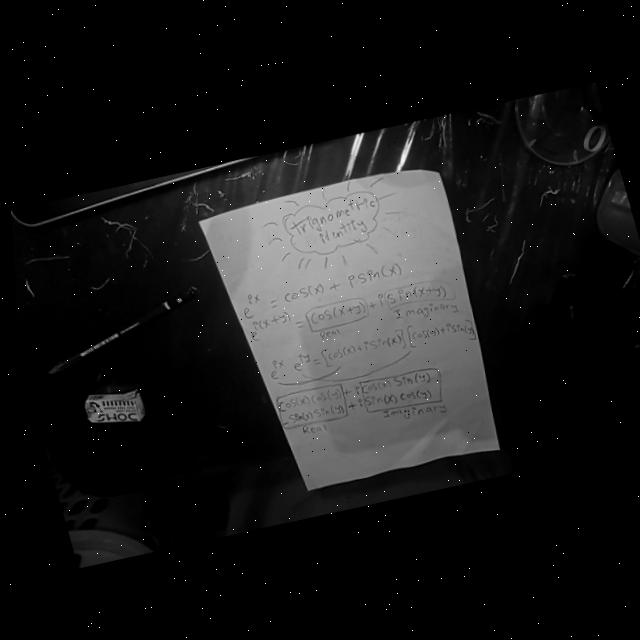document: (200, 170, 498, 490)
